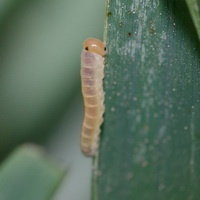insect: (80, 38, 105, 155)
